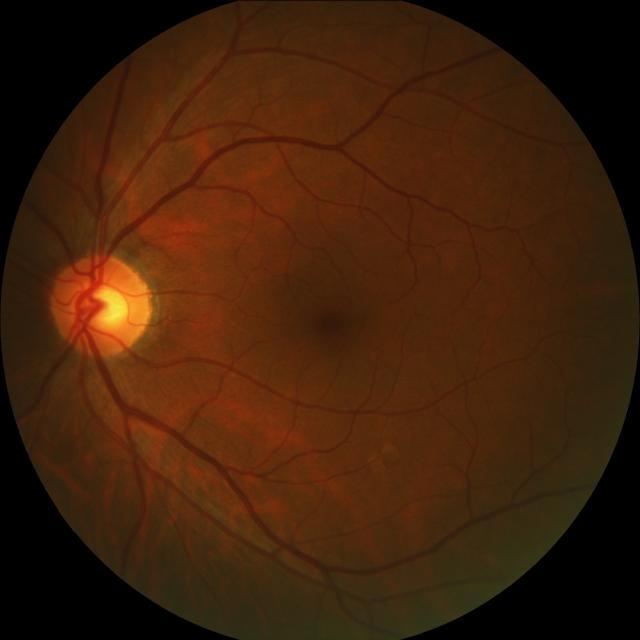OC: (80, 284, 129, 332)
OD: (53, 252, 154, 356)
